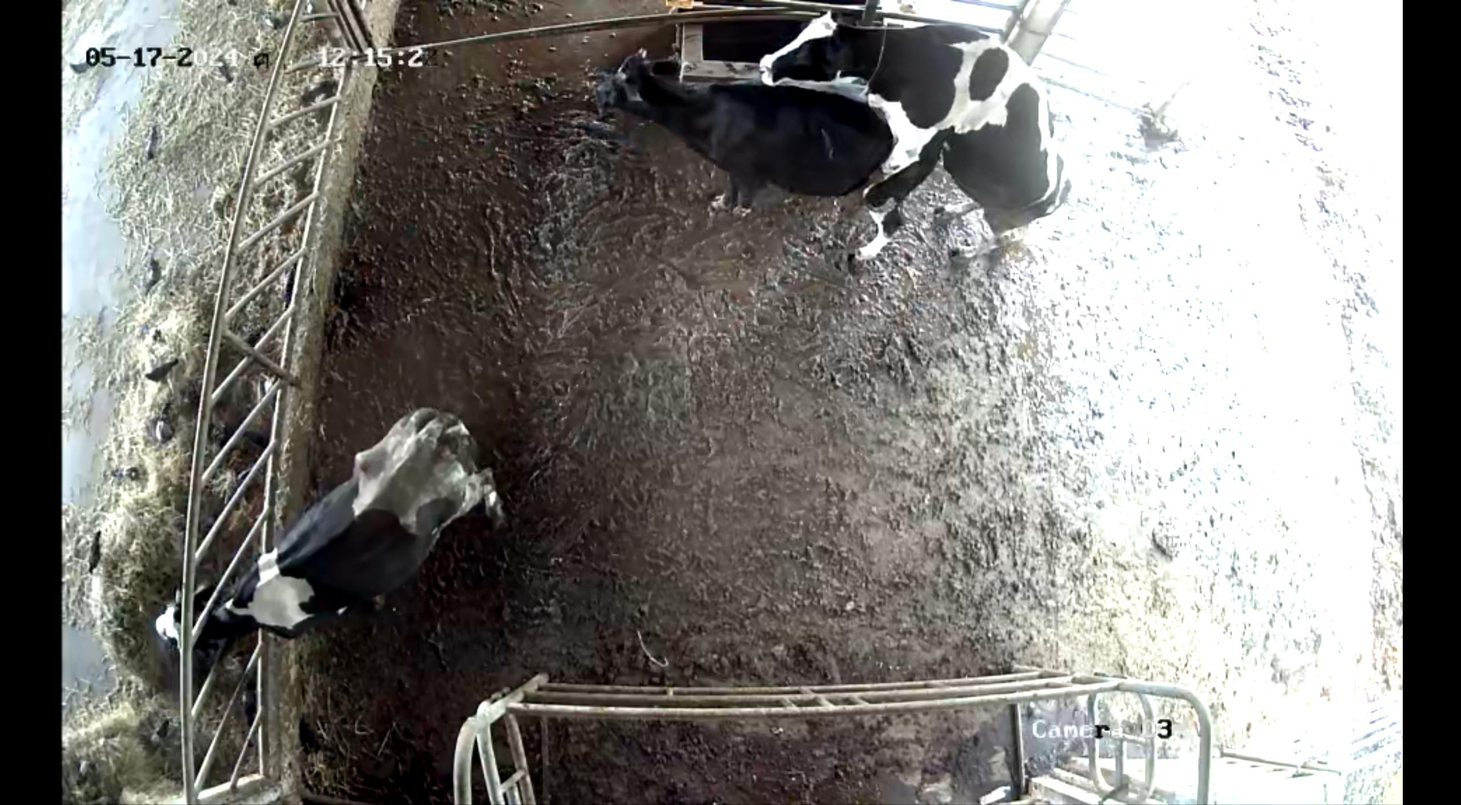eat: (134, 556, 293, 678)
ride: (757, 7, 1082, 284)
stand: (603, 52, 903, 227)
